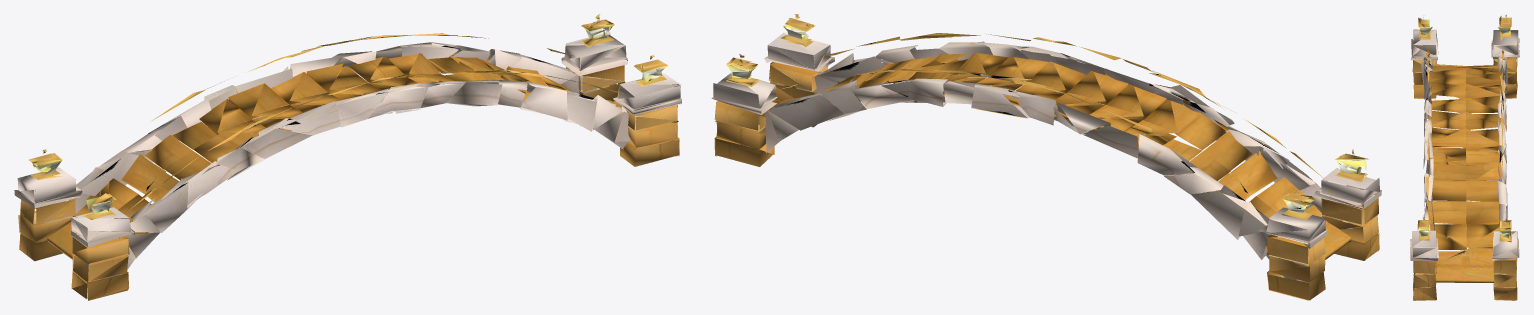
The model's file is bridge-repaired.lod1.glb.
3 renders of one model, left to right at view 1: azimuth 30°, elevation 25°; view 2: azimuth 150°, elevation 25°; view 3: azimuth 270°, elevation 25°, orthographic. The views are drawn at different scales.
Parts seen in each view (by area): view 1: bridge-repaired_lod1; view 2: bridge-repaired_lod1; view 3: bridge-repaired_lod1.
Part boxes in pixels (box(x1,y1,x2,y2)): bridge-repaired_lod1: box(14, 14, 681, 300); bridge-repaired_lod1: box(711, 14, 1381, 300); bridge-repaired_lod1: box(1410, 14, 1519, 300).
Bounding box in the file's own units: 14.1 × 3.22 × 2.99.
Materials: 1 (1 with a texture image).
